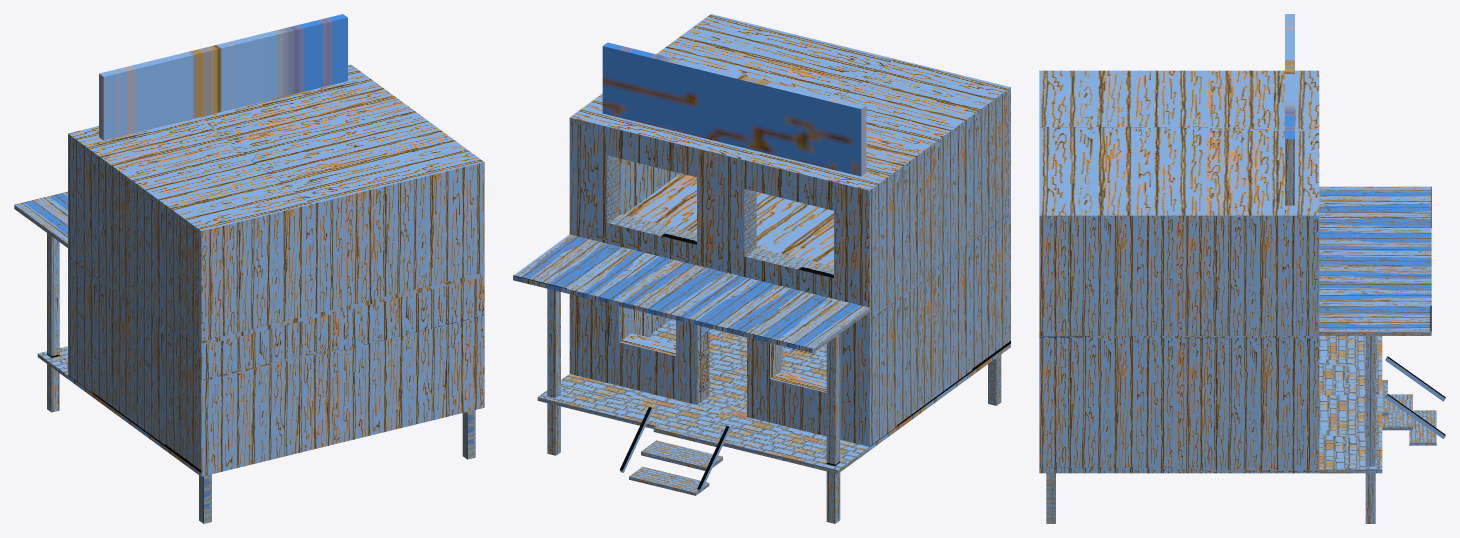
Rendered from NewHouse.glb.
The picture shows the model from 3 angles, left to right: view 1: azimuth 30°, elevation 25°; view 2: azimuth 150°, elevation 25°; view 3: azimuth 270°, elevation 25°; orthographic projection. The views are drawn at different scales.
Visible parts, largest first — view 1: pe.003; view 2: pe.003; view 3: pe.003.
Part boxes in pixels (left/top/right/bottom): pe.003: left=14, top=14, right=484, bottom=523; pe.003: left=513, top=14, right=1010, bottom=523; pe.003: left=1039, top=14, right=1445, bottom=523.
Bounding box in the file's own units: 6.98 × 8.49 × 8.27.
1 material, 1 textured.
